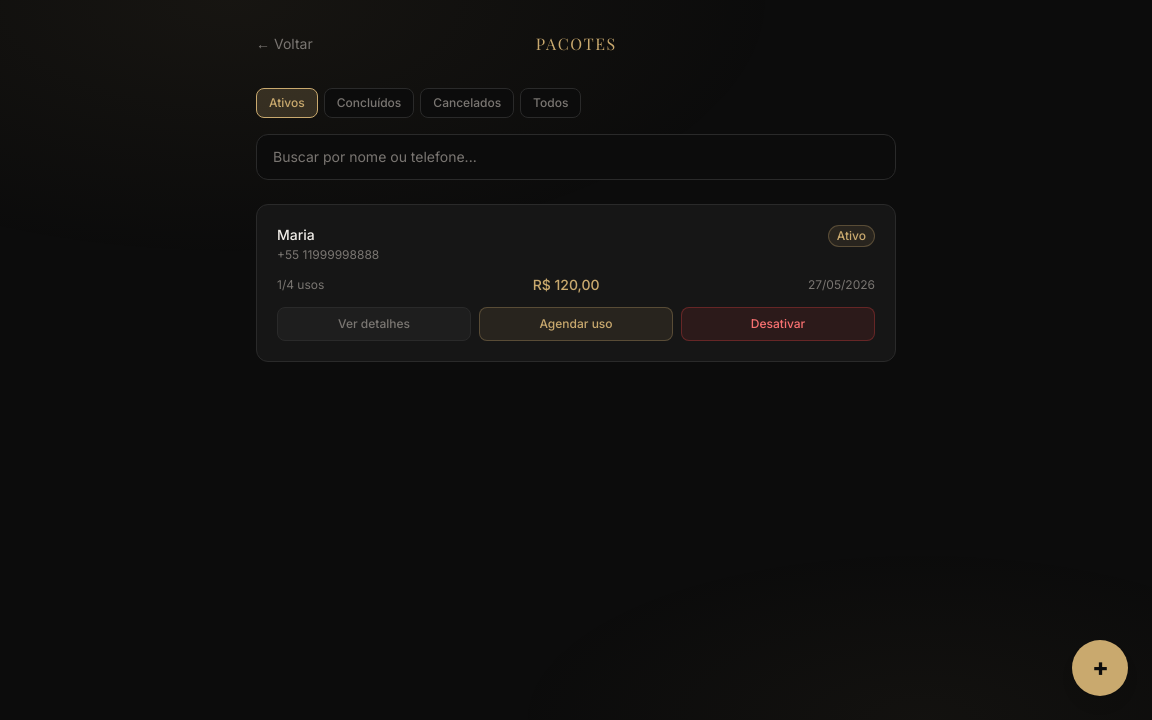
PackagesPage › warns that deactivation cancels only future confirmed linked bookings
The width and height of the screenshot is (1152, 720).
Step 1. Click the button "Desativar" → (778, 324), box [681,307,875,341]
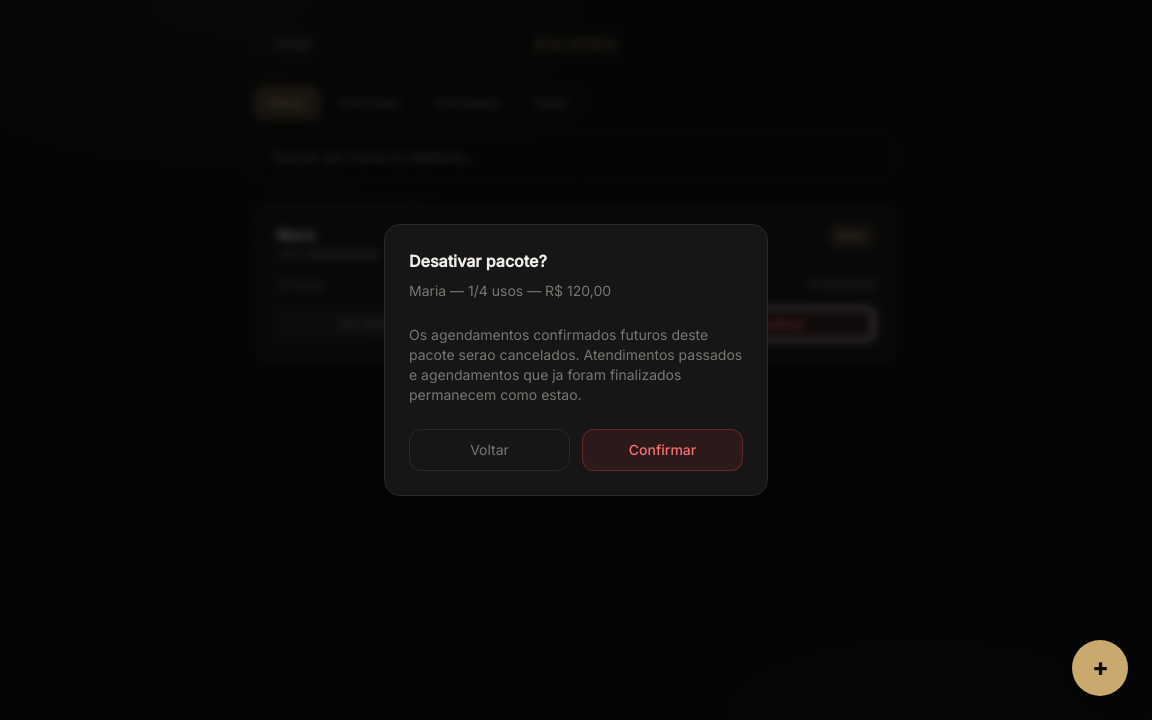
Now the heading "Desativar pacote?" is shown, box [409,251,547,271]
Now the text "atendimentos passados e agendamentos que ja foram finalizados permanecem como estao" is shown, box [409,326,742,403]
